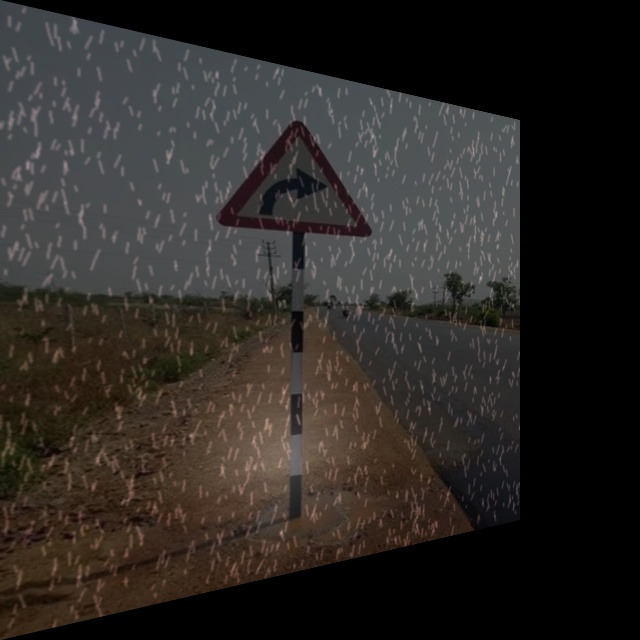Right_Hand_Curve: (217, 105, 367, 236)
